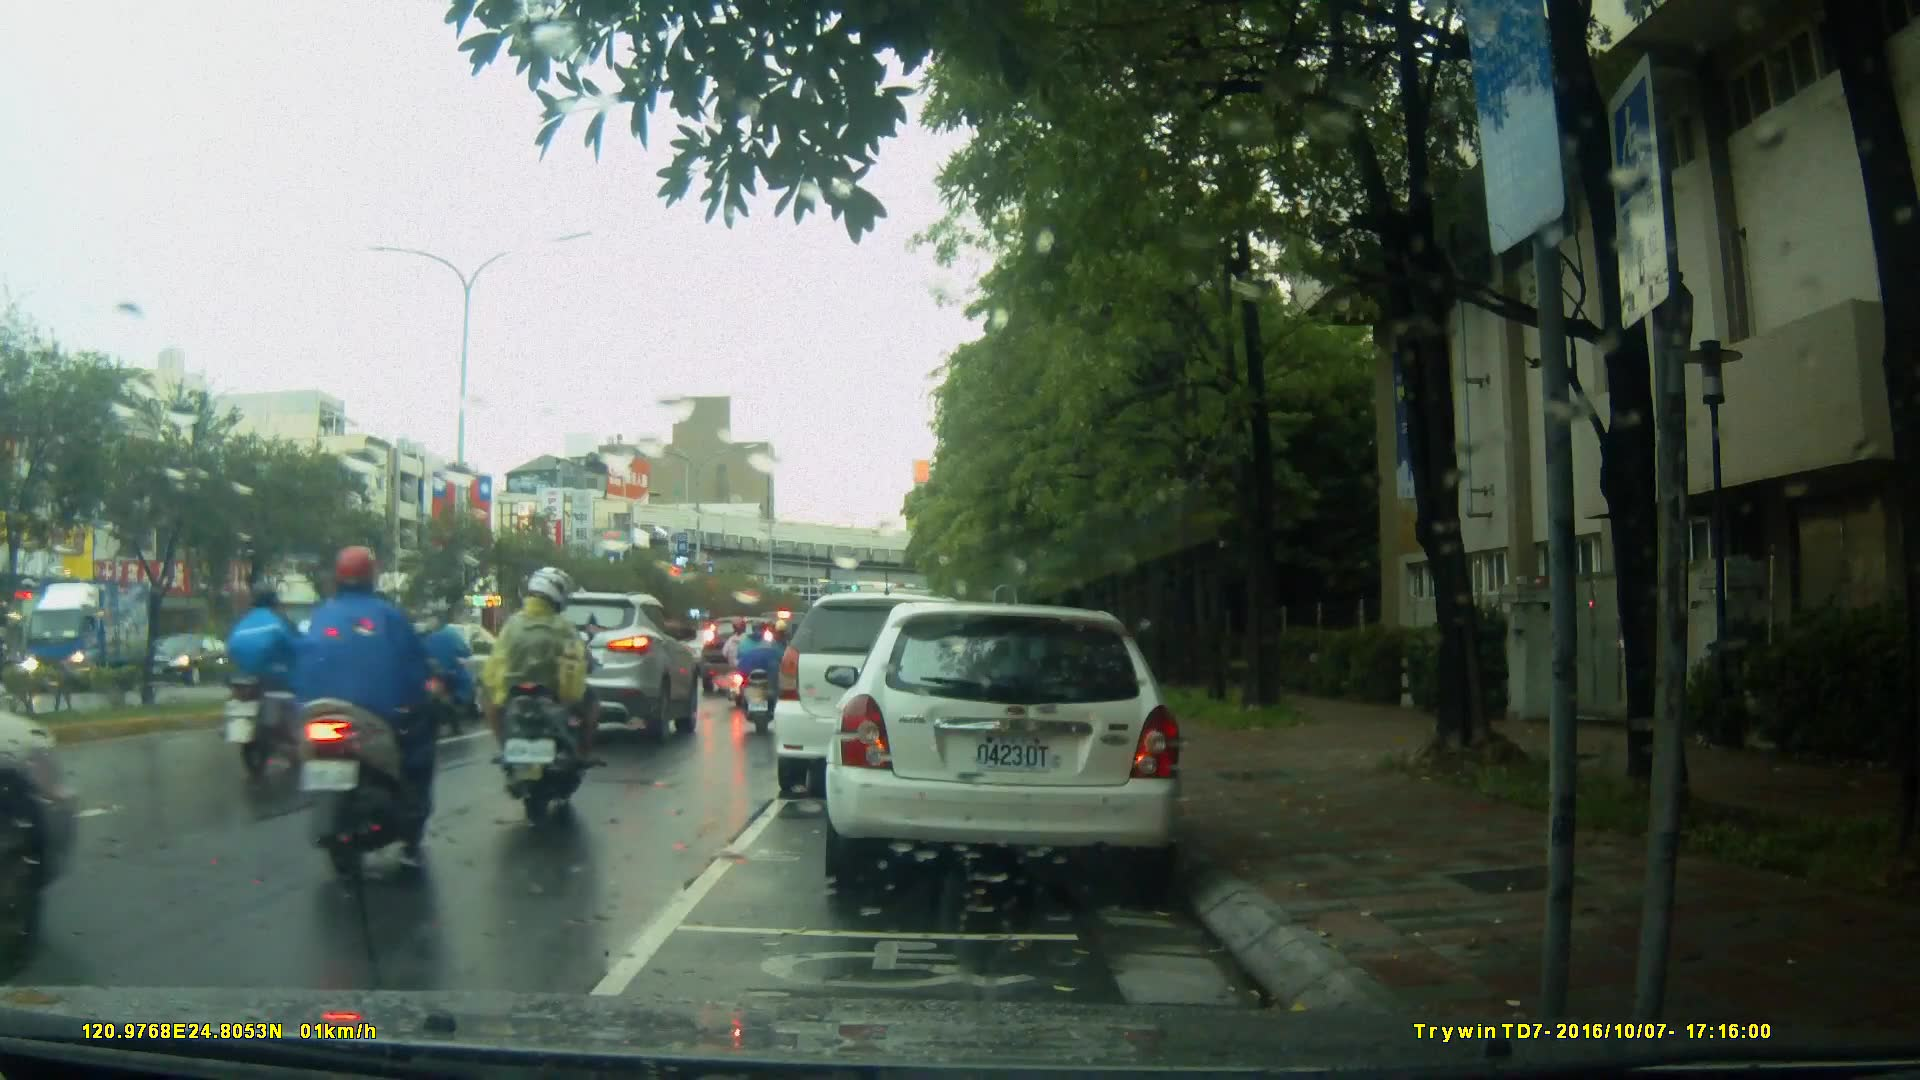rider: (285, 540, 441, 878), (485, 569, 602, 823), (227, 578, 314, 773), (399, 602, 486, 734), (734, 616, 787, 732), (723, 615, 762, 712), (769, 618, 800, 703)
vehicle: (822, 604, 1188, 883), (774, 595, 995, 802), (498, 590, 703, 747), (20, 576, 167, 697), (702, 615, 775, 698)
